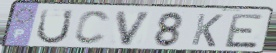8: (153, 11, 185, 48)
C: (72, 9, 112, 46)
E: (223, 13, 267, 50)
K: (189, 12, 225, 48)
U: (34, 8, 76, 46)
V: (115, 10, 155, 48)
